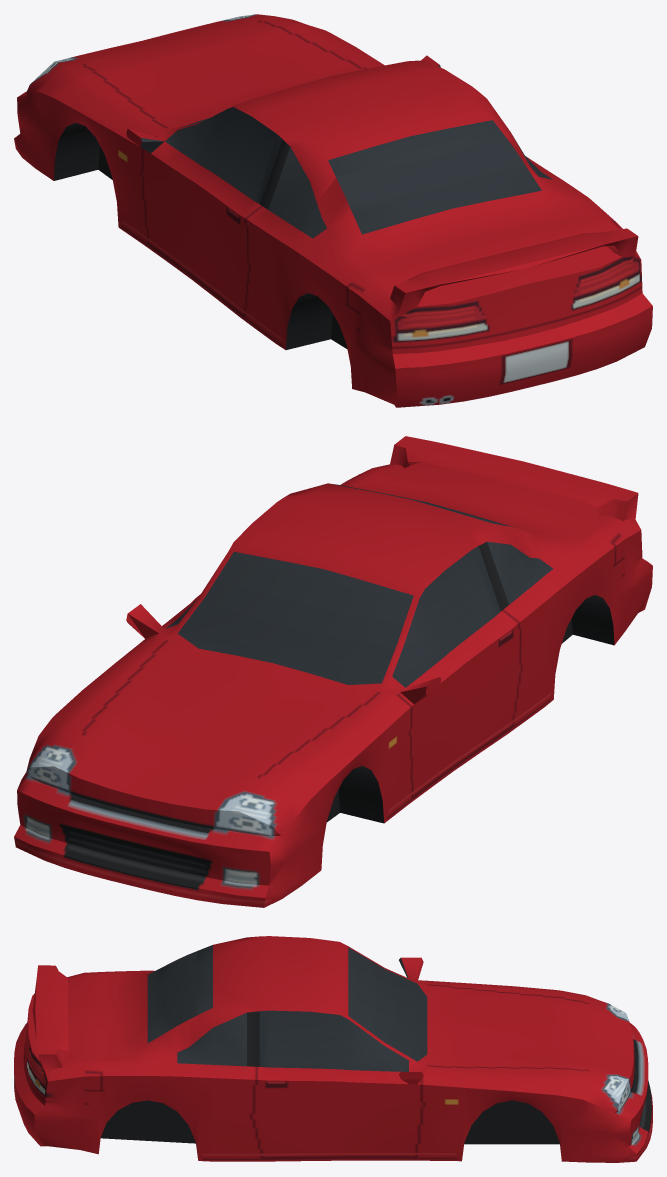
Rendered from coupe_99.obj.
3 renders of one model, top to bottom at view 1: azimuth 30°, elevation 25°; view 2: azimuth 150°, elevation 25°; view 3: azimuth 270°, elevation 25°, orthographic. The views are drawn at different scales.
Visible parts, largest first — view 1: coupe_99; view 2: coupe_99; view 3: coupe_99.
Boxes of the visible parts, bbox=[...] form: coupe_99: bbox=[14, 14, 652, 407]; coupe_99: bbox=[14, 436, 652, 907]; coupe_99: bbox=[14, 936, 652, 1162].
Bounding box in the file's own units: 1.91 × 1.14 × 4.52.
1 material, 1 textured.
